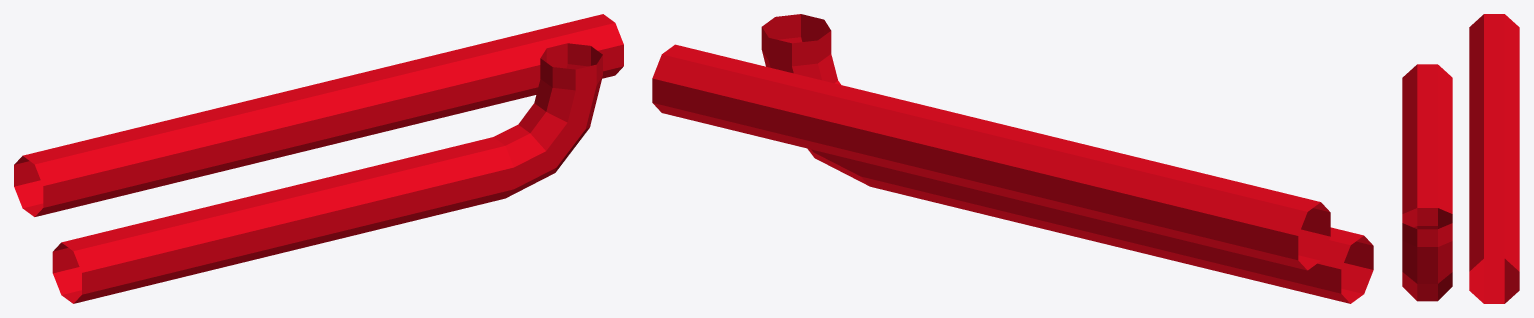
The model's file is Pipes.fbx.
3 views of the same model, side by side, from view 1: azimuth 30°, elevation 25°; view 2: azimuth 150°, elevation 25°; view 3: azimuth 270°, elevation 25° (orthographic). The views are drawn at different scales.
Parts seen in each view (by area): view 1: Pipes; view 2: Pipes; view 3: Pipes.
Boxes of the visible parts, left/top/right/bottom form: Pipes: left=14, top=14, right=623, bottom=303; Pipes: left=652, top=14, right=1373, bottom=303; Pipes: left=1402, top=14, right=1519, bottom=303.
Bounding box in the file's own units: 2.66 × 0.5383 × 0.5257.
